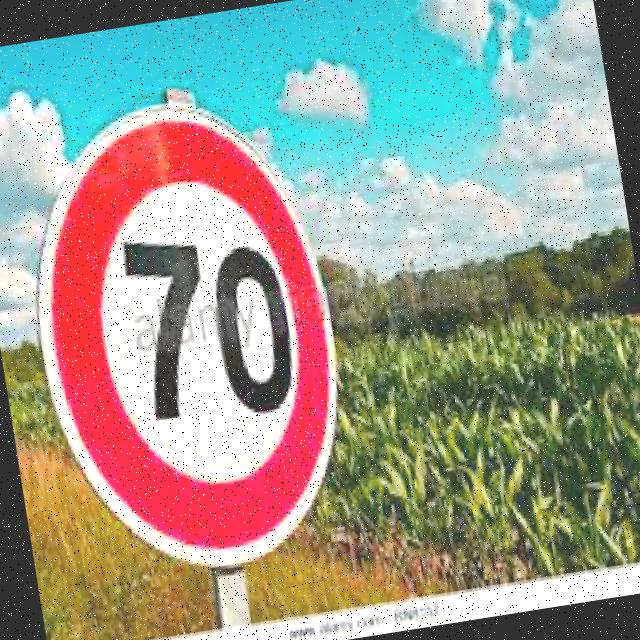Ograniczenie predkosci do 70: (16, 96, 368, 588)
